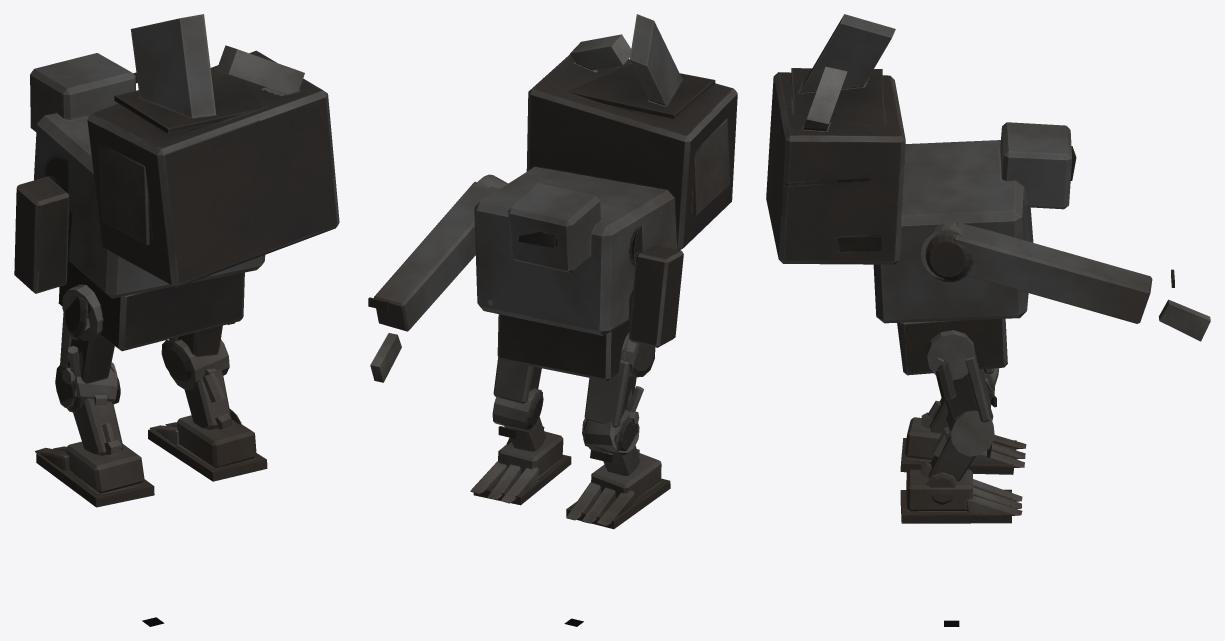
The model's file is chs_graverobber_wreck.fbx.
The picture shows the model from 3 angles, left to right: view 1: azimuth 30°, elevation 25°; view 2: azimuth 150°, elevation 25°; view 3: azimuth 270°, elevation 25°; orthographic projection. The views are drawn at different scales.
Visible parts, largest first — view 1: base_bar, thighL_bar, footL_bar, footR_bar, thighR_bar, shinL_bar, shinR_bar; view 2: base_bar, nano_bar, thighL_bar, footL_bar, footR_bar, thighR_bar, shinL_bar, shinR_bar; view 3: base_bar, nano_bar, thighR_bar, footR_bar, footL_bar, shinR_bar, shinL_bar.
Boxes of the visible parts, left/top/right/bottom form: base_bar: left=14, top=14, right=339, bottom=351; thighL_bar: left=55, top=284, right=120, bottom=413; footL_bar: left=35, top=441, right=154, bottom=507; footR_bar: left=148, top=415, right=267, bottom=481; thighR_bar: left=161, top=322, right=234, bottom=390; shinL_bar: left=73, top=395, right=123, bottom=455; shinR_bar: left=184, top=368, right=241, bottom=429; base_bar: left=474, top=14, right=737, bottom=381; nano_bar: left=368, top=174, right=507, bottom=382; thighL_bar: left=582, top=332, right=655, bottom=455; footL_bar: left=566, top=453, right=670, bottom=529; footR_bar: left=470, top=431, right=571, bottom=505; thighR_bar: left=492, top=357, right=543, bottom=432; shinL_bar: left=590, top=445, right=640, bottom=475; shinR_bar: left=498, top=417, right=546, bottom=451; base_bar: left=766, top=14, right=1076, bottom=375; nano_bar: left=921, top=222, right=1210, bottom=341; thighR_bar: left=926, top=330, right=994, bottom=456; footR_bar: left=900, top=469, right=1022, bottom=523; footL_bar: left=900, top=417, right=1026, bottom=474; shinR_bar: left=920, top=426, right=991, bottom=504; shinL_bar: left=921, top=395, right=996, bottom=432.
Size of the model in its own units: 334 by 855 by 578.
Materials: 2 (2 with a texture image).
